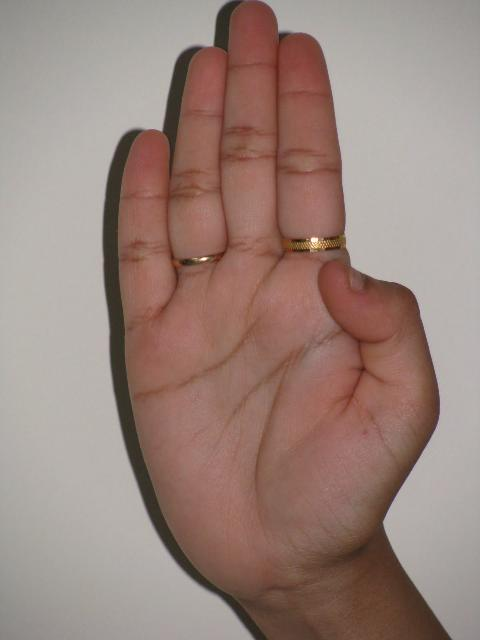pataka: (84, 0, 443, 576)
